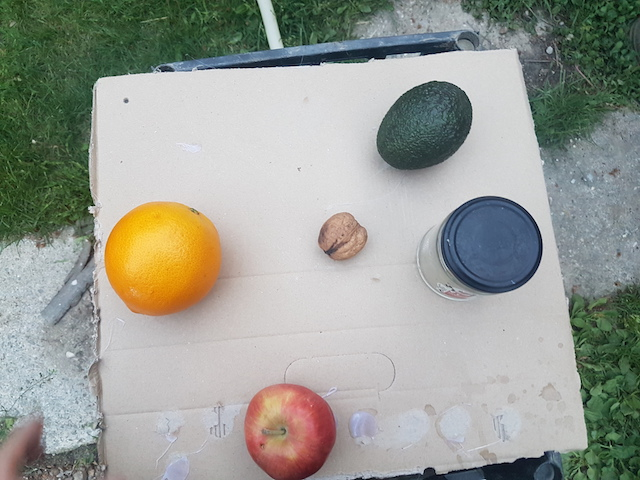apple: (243, 383, 339, 479)
avocado: (374, 77, 478, 171)
nut: (314, 207, 373, 267)
orange: (99, 200, 235, 318)
recipient: (441, 194, 549, 291)
